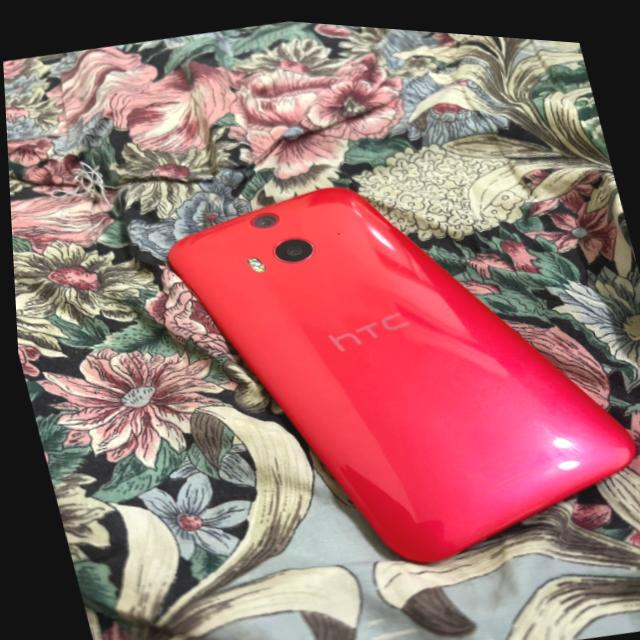Smartphone: (165, 182, 630, 557)
